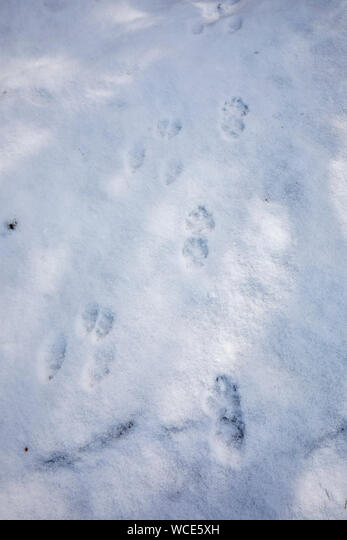fox: (44, 302, 118, 389), (201, 373, 258, 453), (179, 207, 222, 275)
